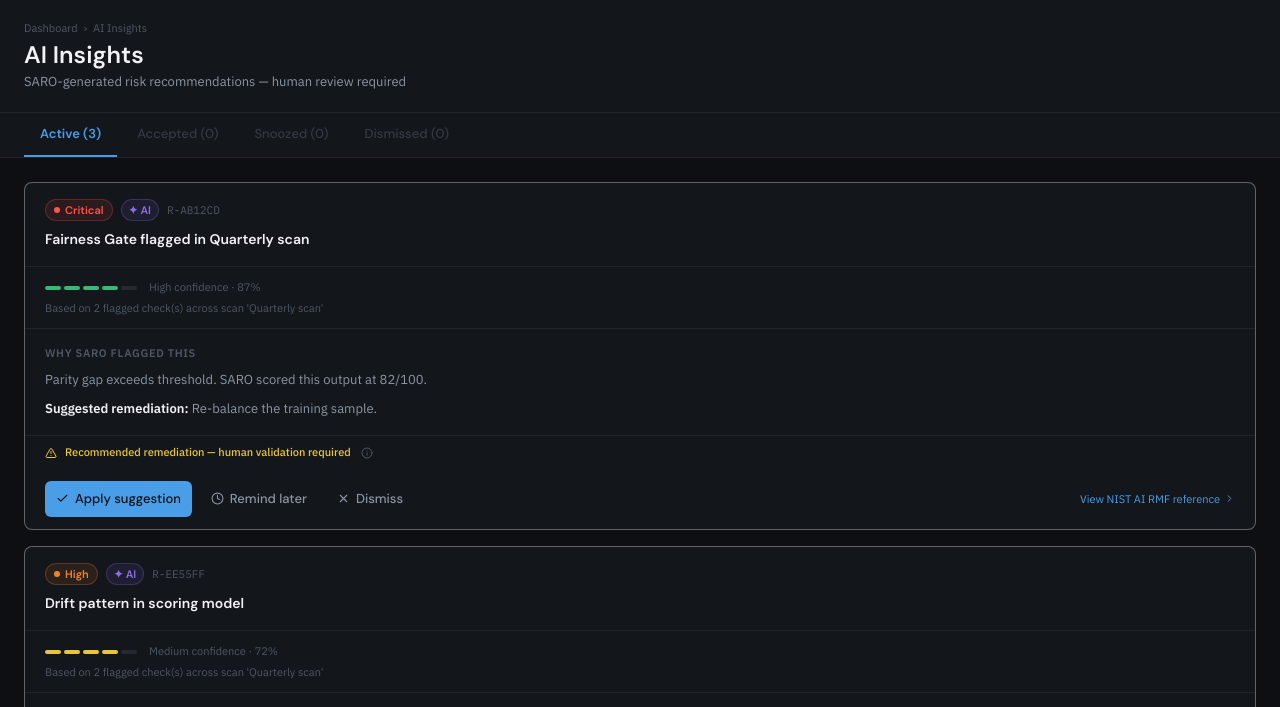
Scenario: STORY-002 — apply suggestion action › AC-4: status flips to accepted and a confirmation message shows (test_insight_status_update_after_apply)
Expected: the heading "Fairness Gate flagged in Quarterly scan" is shown, [45,230,309,248]
Click the button "Apply suggestion".
click(118, 499)  # box [45,481,192,517]
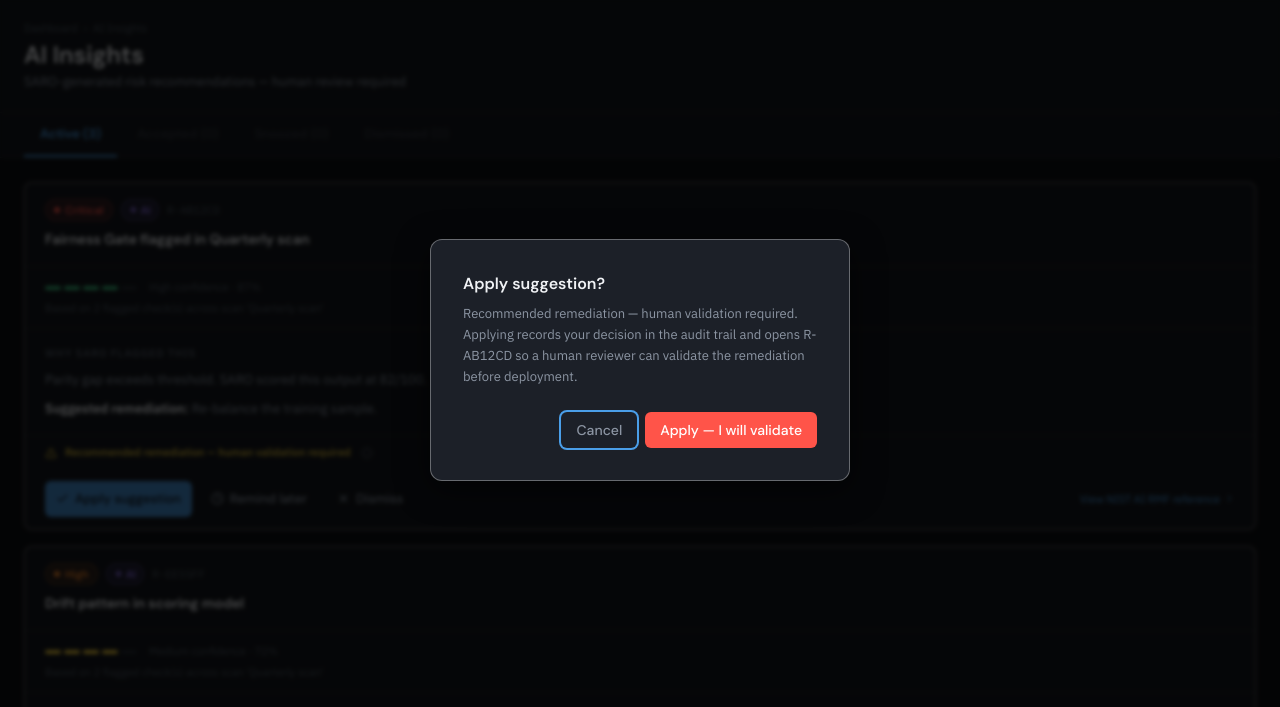
Click the button "Apply — I will validate".
click(731, 430)  # box [645,412,817,448]
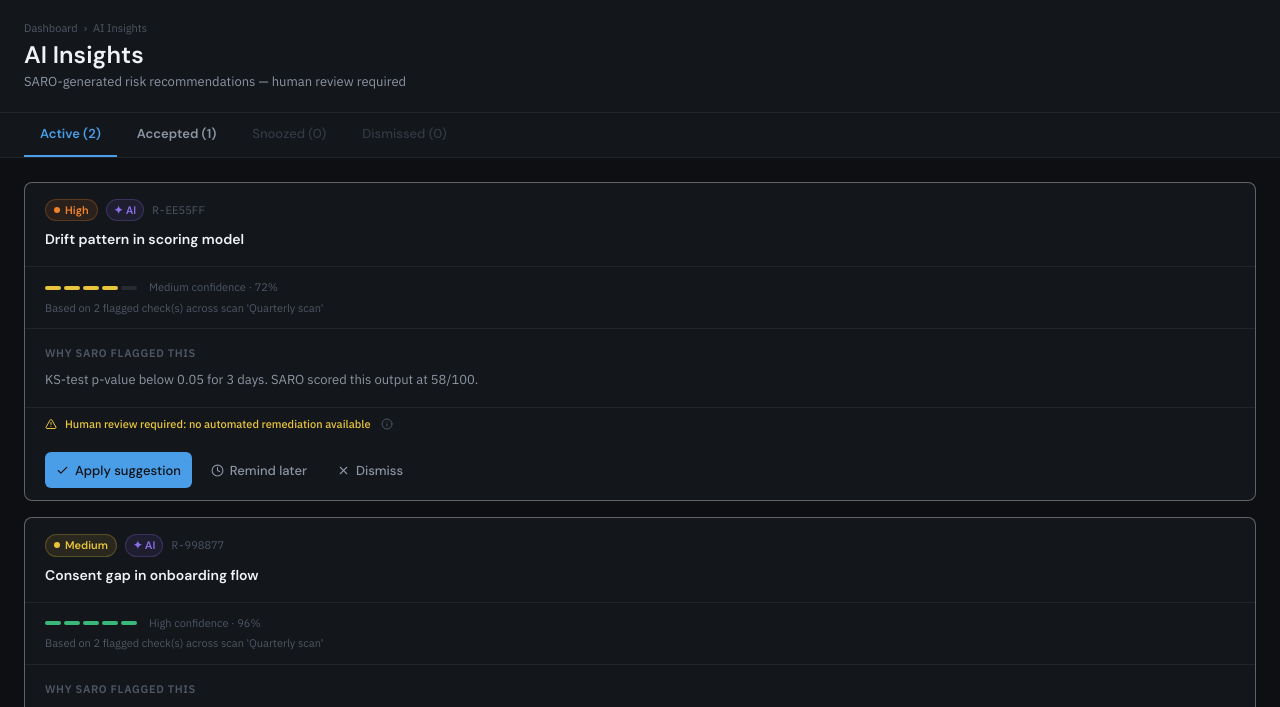
Expected: the heading "Fairness Gate flagged in Quarterly scan" is gone
Expected: the button "accepted (1)" is shown, [121,113,232,157]
